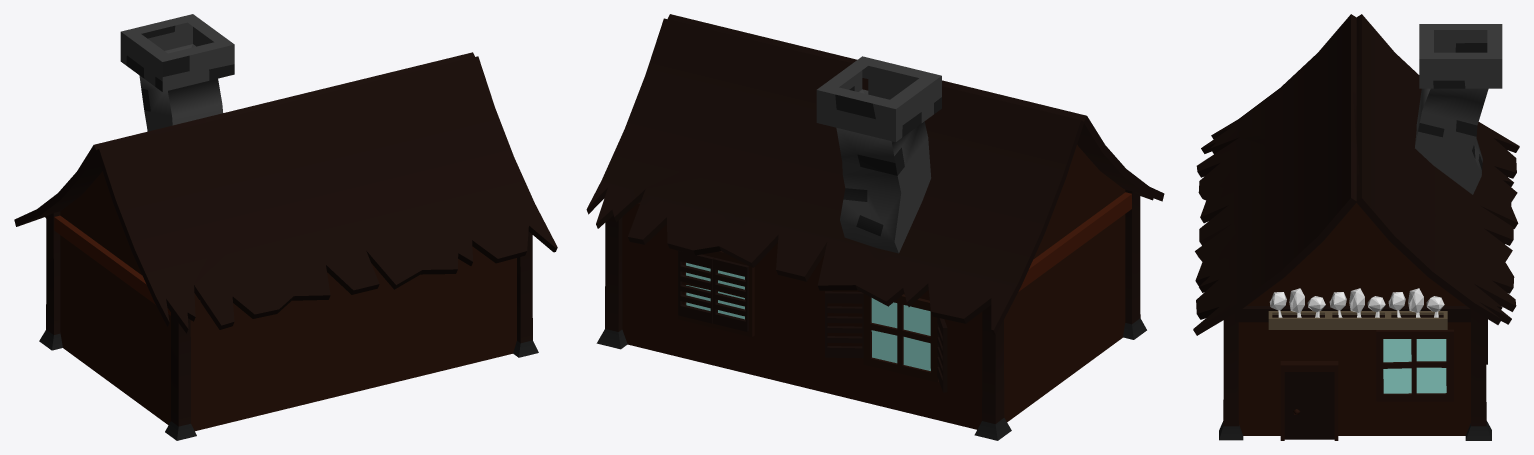
File: Domek_1.FBX
The picture shows the model from 3 angles, left to right: view 1: azimuth 30°, elevation 25°; view 2: azimuth 150°, elevation 25°; view 3: azimuth 270°, elevation 25°; orthographic projection. The views are drawn at different scales.
Parts seen in each view (by area): view 1: Box001, Box003, Box010, Box005, Box006, Box009, Box004; view 2: Box001, Box003, Box010, Box013, Box006, Box007, Box009, Box005, Box016, Box018, Box012, Box014 (+1 smaller); view 3: Box001, Box003, Box010, Box015, Box011, Box007, Box004, Box008, Box019, Box020, Box021, GeoSphere002 (+2 smaller).
Part boxes in pixels (<box>): Box001: <box>14,52,557,333</box>; Box003: <box>60,171,516,431</box>; Box010: <box>120,14,234,131</box>; Box005: <box>165,313,196,440</box>; Box006: <box>39,211,62,350</box>; Box009: <box>54,215,170,315</box>; Box004: <box>513,232,538,357</box>; Box001: <box>586,14,1164,335</box>; Box003: <box>622,144,1125,429</box>; Box010: <box>816,56,941,253</box>; Box013: <box>863,294,938,382</box>; Box006: <box>974,305,1011,440</box>; Box007: <box>596,215,627,349</box>; Box009: <box>1018,192,1131,291</box>; Box005: <box>1123,189,1146,339</box>; Box016: <box>825,291,863,358</box>; Box018: <box>713,258,748,331</box>; Box012: <box>678,251,754,336</box>; Box014: <box>678,251,714,323</box>; Box001: <box>1193,14,1519,335</box>; Box003: <box>1238,203,1470,435</box>; Box010: <box>1415,24,1502,194</box>; Box015: <box>1376,329,1453,401</box>; Box011: <box>1280,361,1338,440</box>; Box007: <box>1465,309,1491,440</box>; Box004: <box>1219,313,1243,440</box>; Box008: <box>1235,306,1470,322</box>; Box019: <box>1268,311,1328,329</box>; Box020: <box>1328,311,1388,329</box>; Box021: <box>1388,311,1447,329</box>; GeoSphere002: <box>1289,288,1304,312</box>.
Bounding box in the file's own units: 119 × 83.95 × 87.59.
